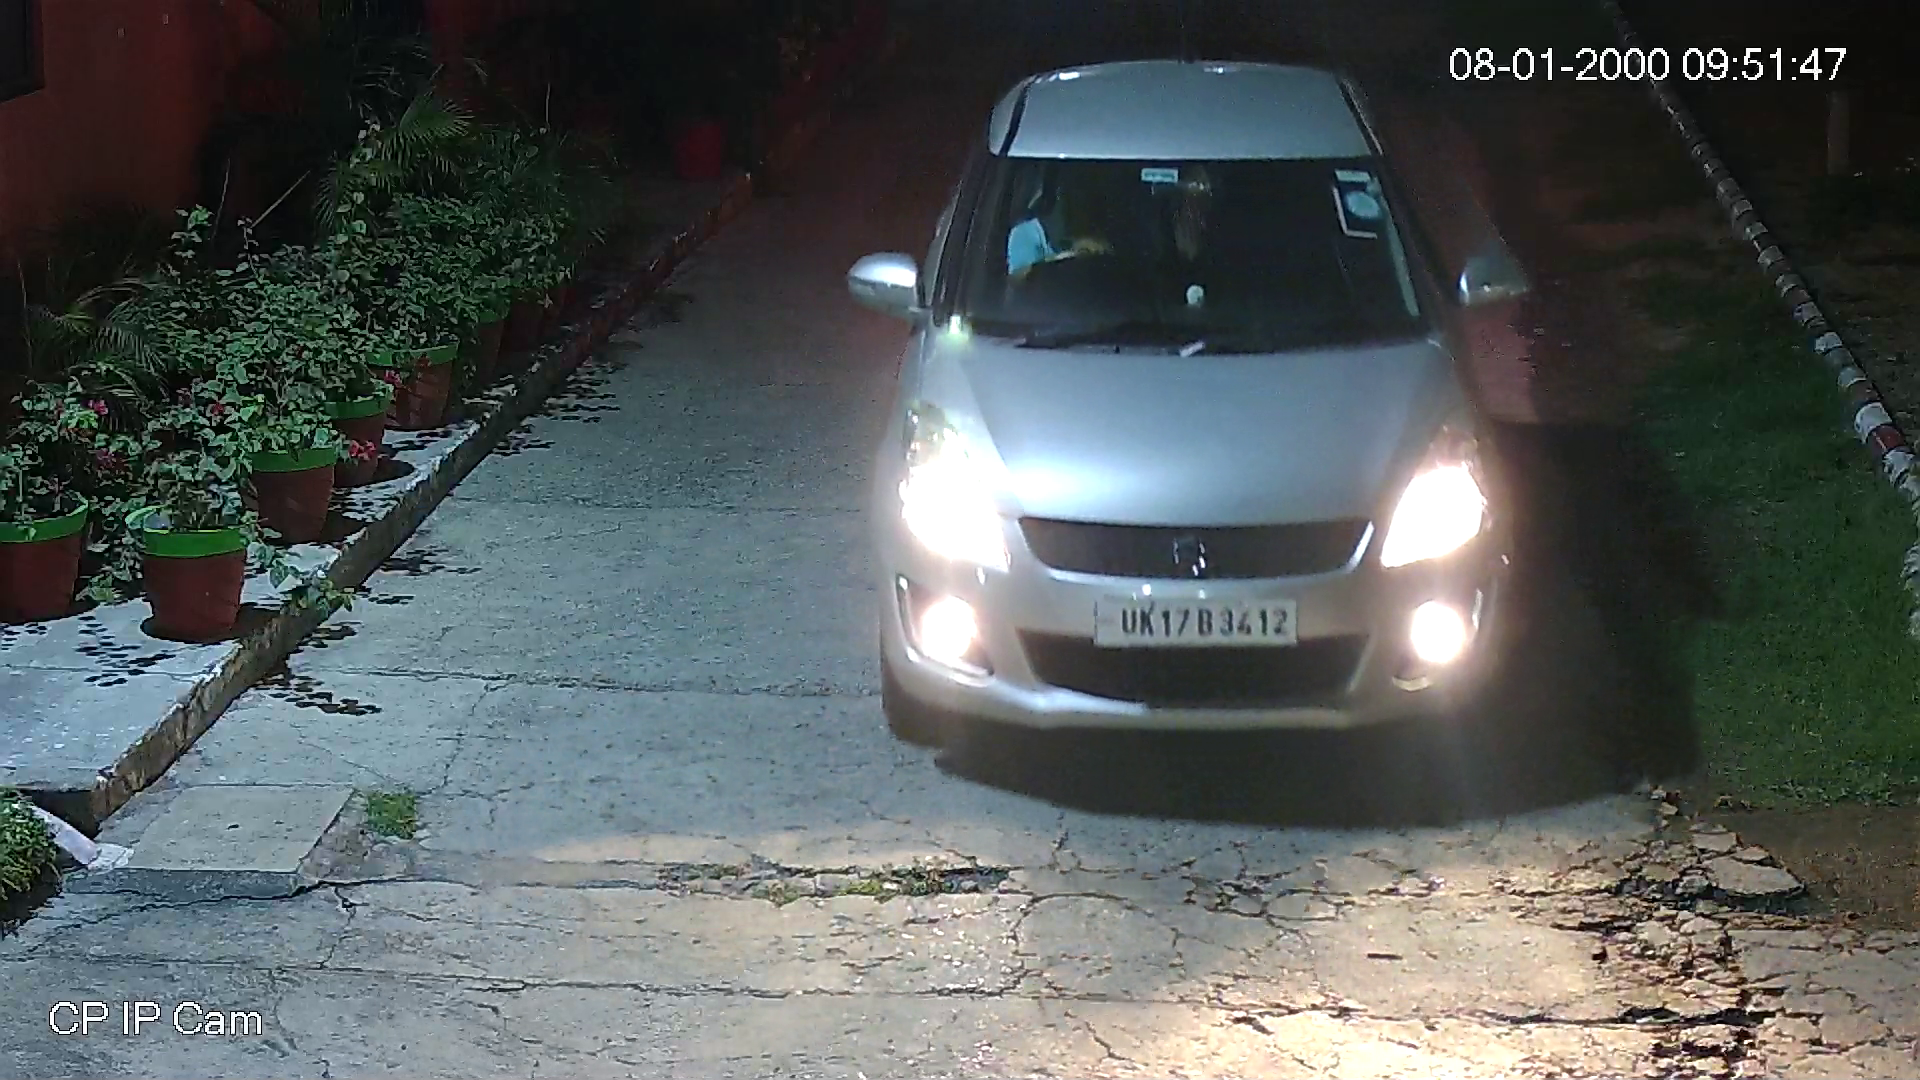plate: (1089, 589, 1303, 655)
